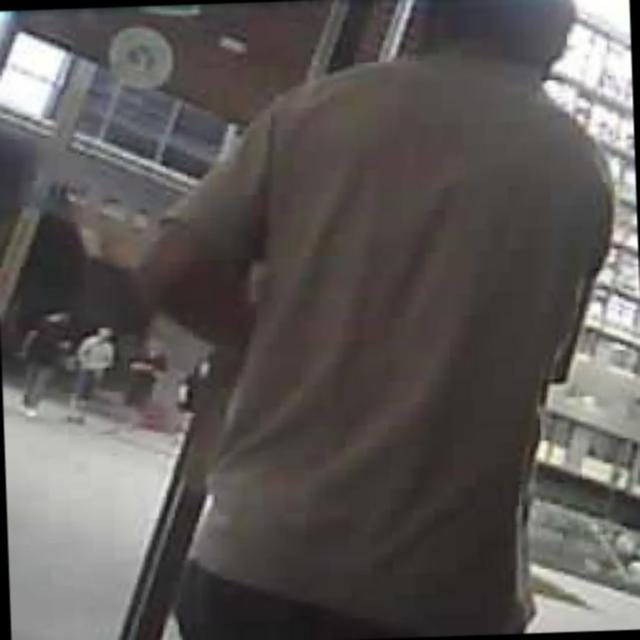person: (117, 0, 629, 640), (15, 308, 76, 418), (64, 326, 118, 424)
